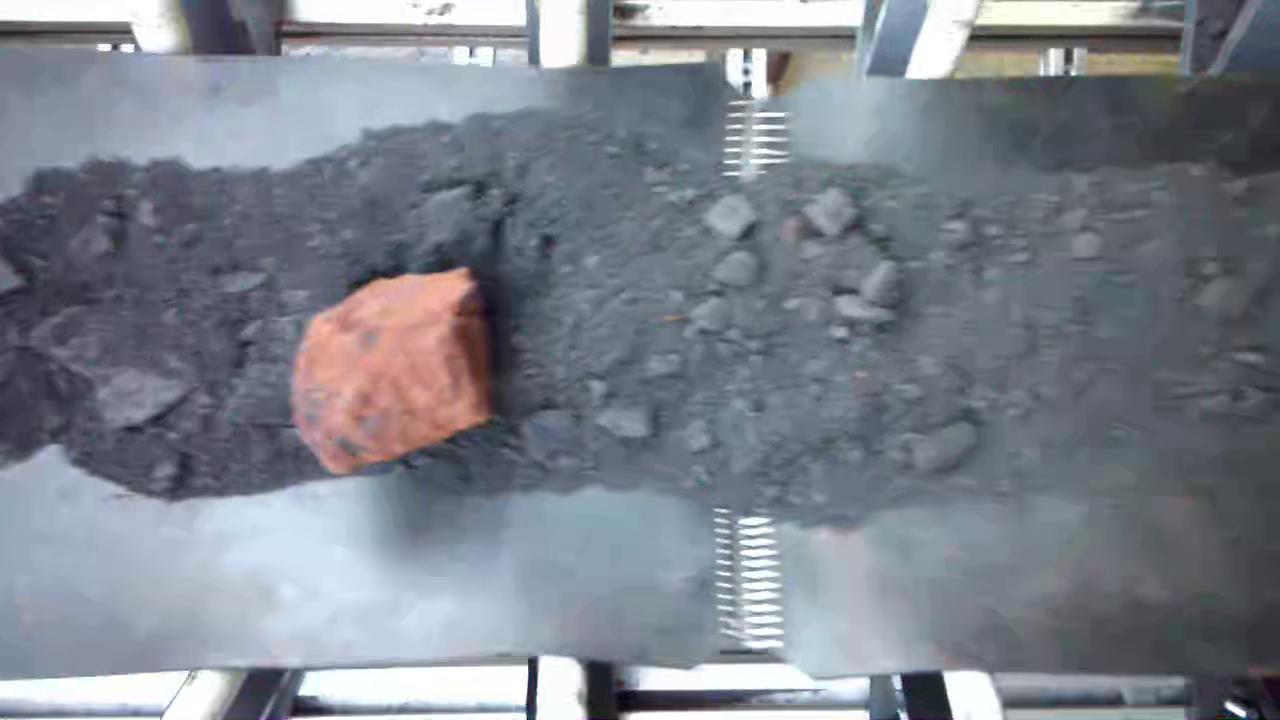conveyor: (10, 98, 1270, 650)
